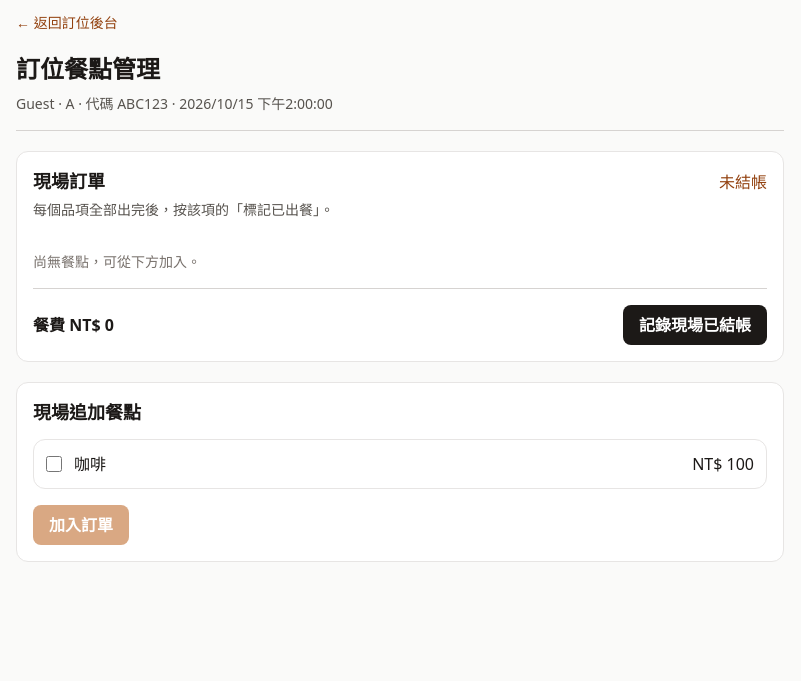
Scenario: standalone reservation orders — acknowledged add versus refresh (#463) › still refreshes the displayed order and clears selection after a successful GET
Click the checkbox named "選擇咖啡": (54, 464) [46,456,62,472]
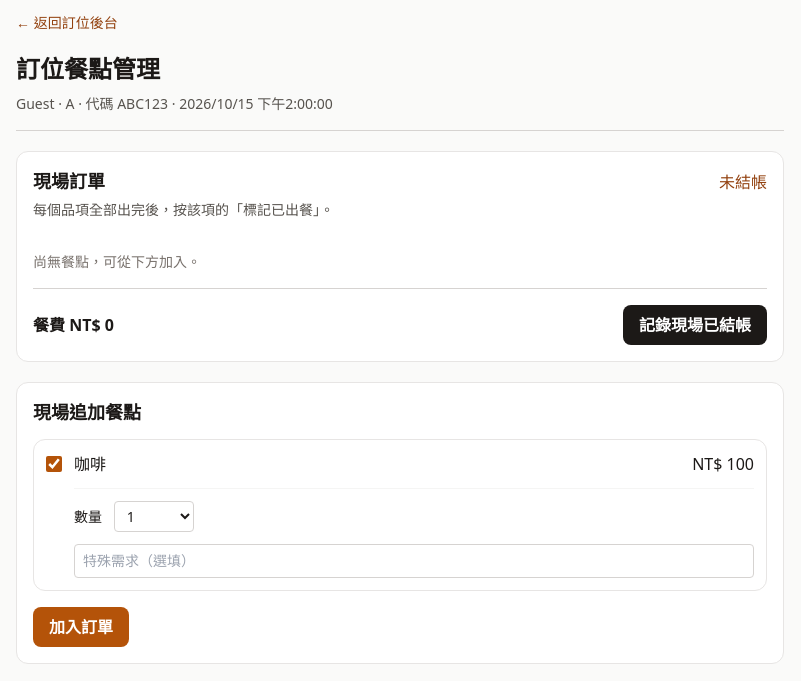
Click the button "加入訂單": (81, 627) [33,607,129,647]
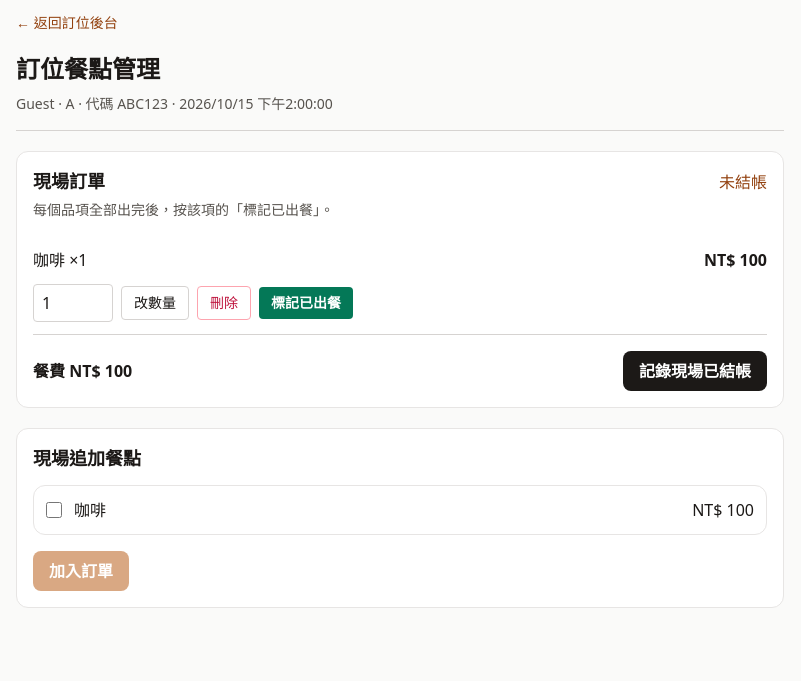
Result: the checkbox named "選擇咖啡" is not checked at [46,502,62,518]
Result: the text "咖啡 ×1" is shown at [33,248,88,272]
